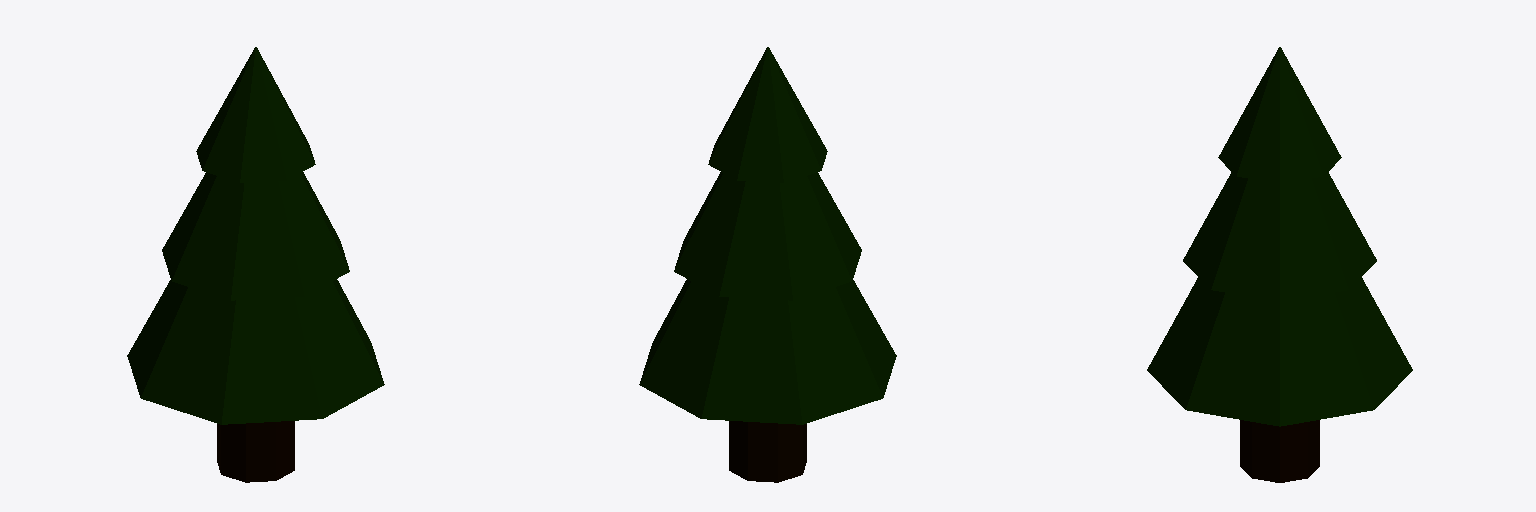
Rendered from cartoontree_new.obj.
3 views of the same model, side by side, from view 1: azimuth 30°, elevation 25°; view 2: azimuth 150°, elevation 25°; view 3: azimuth 270°, elevation 25° (orthographic).
Visible parts, largest first — view 1: CartoonTree:Mesh; view 2: CartoonTree:Mesh; view 3: CartoonTree:Mesh.
Boxes of the visible parts, x1=… form: CartoonTree:Mesh: x1=127, y1=47, x2=384, y2=482; CartoonTree:Mesh: x1=639, y1=47, x2=896, y2=482; CartoonTree:Mesh: x1=1147, y1=47, x2=1412, y2=482.
Size of the model in its own units: 4.2 by 7.31 by 4.2.